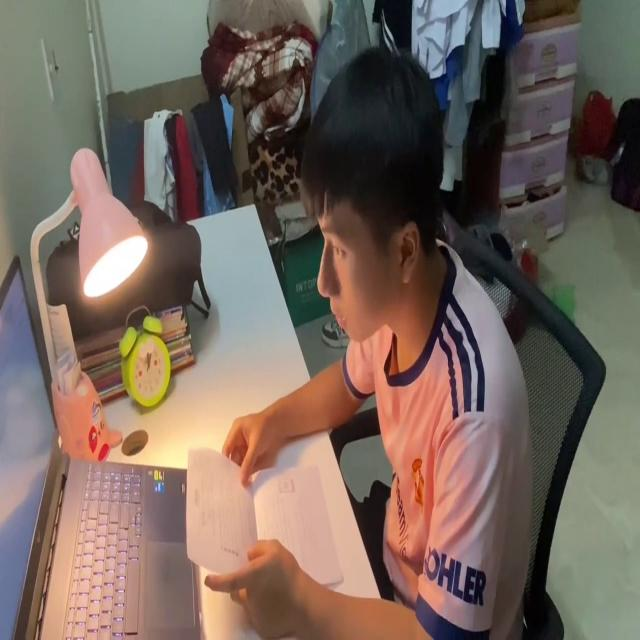book: (181, 439, 344, 599)
laptop: (0, 253, 200, 639)
student: (204, 39, 536, 640)
